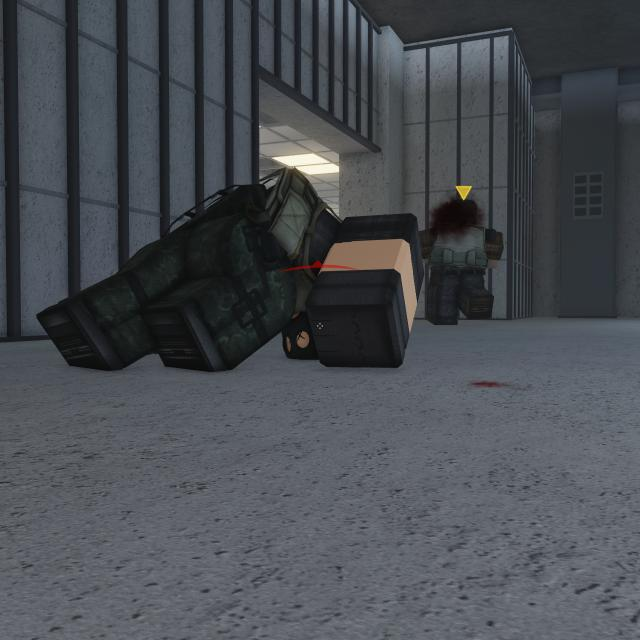Head: (447, 200, 478, 225)
Player: (421, 200, 508, 325)
